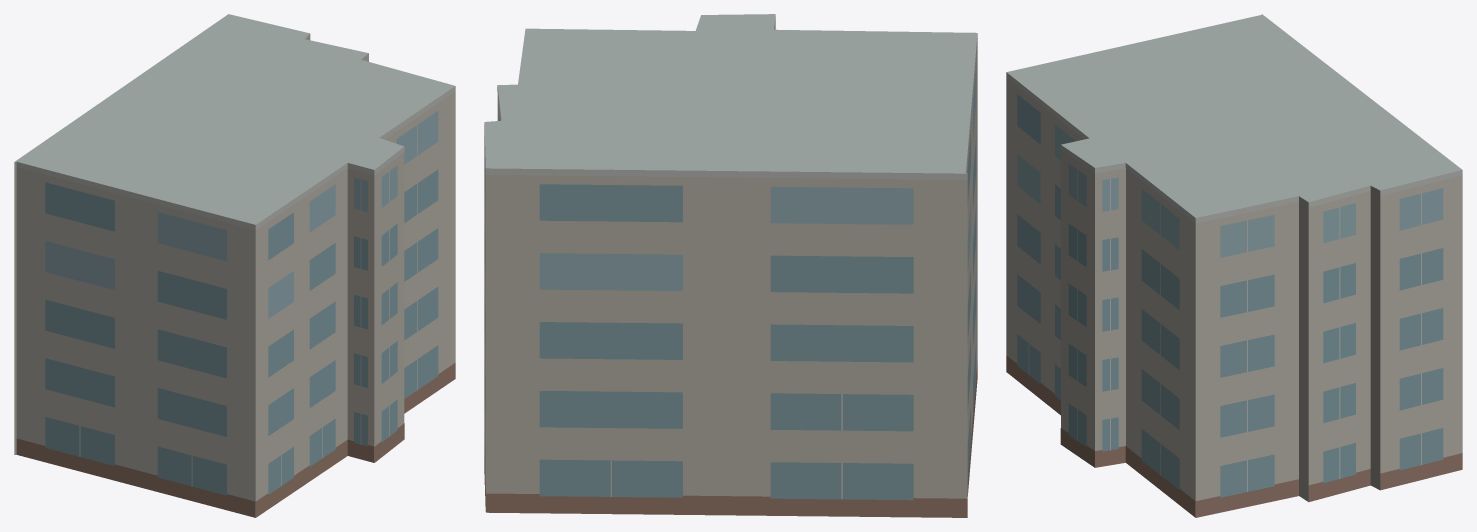
The model's file is survey-upis-32780518.glb.
The picture shows the model from 3 angles, left to right: view 1: azimuth 30°, elevation 25°; view 2: azimuth 150°, elevation 25°; view 3: azimuth 270°, elevation 25°; orthographic projection. The views are drawn at different scales.
Parts seen in each view (by area): view 1: survey-upis-32780518.tmp; view 2: survey-upis-32780518.tmp; view 3: survey-upis-32780518.tmp.
Part boxes in pixels (<box>): survey-upis-32780518.tmp: <box>14,14,455,517</box>; survey-upis-32780518.tmp: <box>484,14,977,517</box>; survey-upis-32780518.tmp: <box>1006,14,1462,517</box>.
Bounding box in the file's own units: 19.42 × 13.3 × 18.35.
